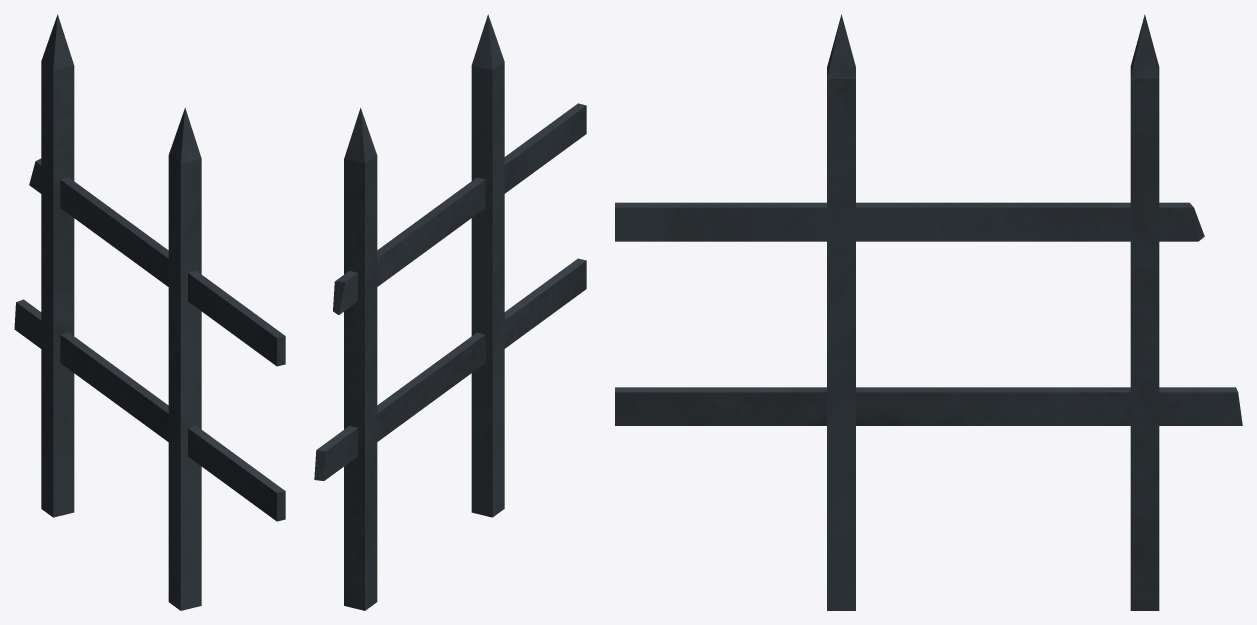
File: sm_metal_fence_ending1.fbx
3 renders of one model, left to right at view 1: azimuth 30°, elevation 25°; view 2: azimuth 150°, elevation 25°; view 3: azimuth 270°, elevation 25°, orthographic. The views are drawn at different scales.
Visible parts, largest first — view 1: sm_fence_metal_ending1; view 2: sm_fence_metal_ending1; view 3: sm_fence_metal_ending1.
Part boxes in pixels (x1,y1,x2,y2): sm_fence_metal_ending1: [14, 14, 285, 610]; sm_fence_metal_ending1: [314, 14, 586, 610]; sm_fence_metal_ending1: [615, 14, 1242, 610].
Size of the model in its own units: 0.1737 by 3.94 by 3.79.
